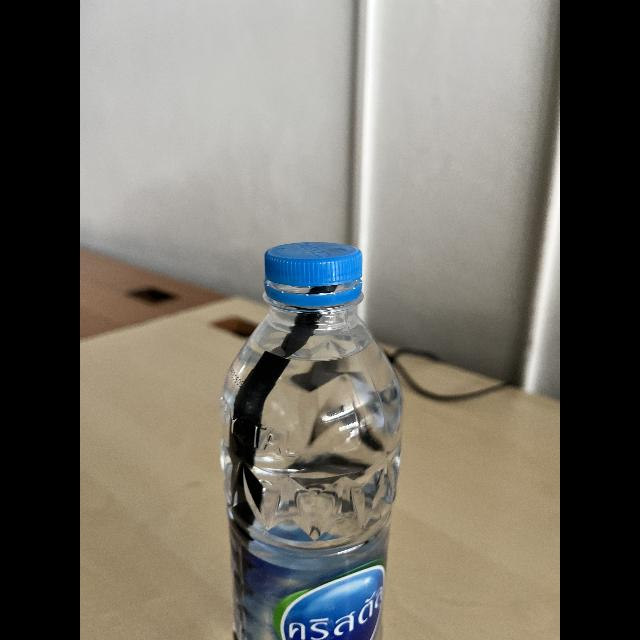plastic_bottle_cap: (254, 228, 366, 288)
